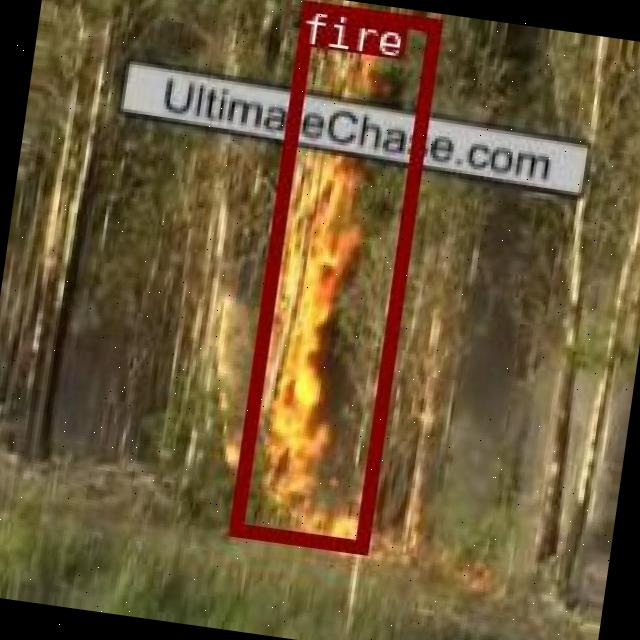fire: (228, 0, 438, 551)
